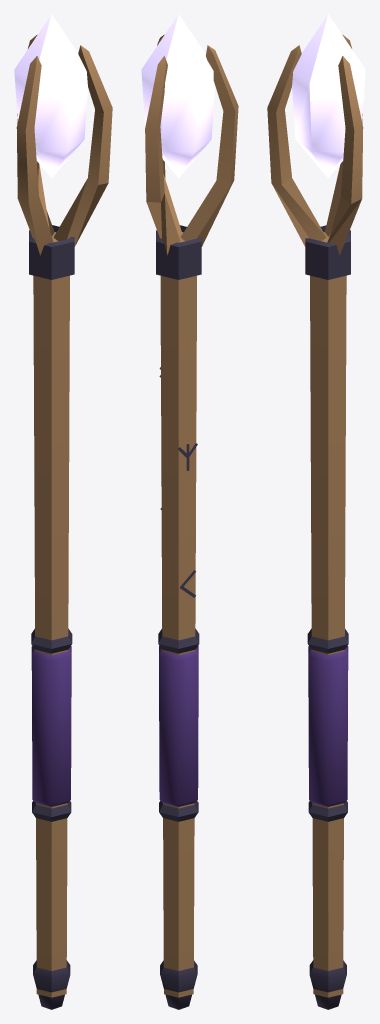
File: prism-staff-3.glb
The picture shows the model from 3 angles, left to right: view 1: azimuth 90°, elevation 25°; view 2: azimuth 210°, elevation 25°; view 3: azimuth 270°, elevation 25°; orthographic projection.
Parts seen in each view (by area): view 1: prism-staff-3; view 2: prism-staff-3; view 3: prism-staff-3.
Boxes of the visible parts, <box> form: prism-staff-3: <box>14,14,112,1009</box>; prism-staff-3: <box>141,14,238,1009</box>; prism-staff-3: <box>267,14,365,1009</box>.
Bounding box in the file's own units: 0.0952 × 0.969 × 0.0868.
